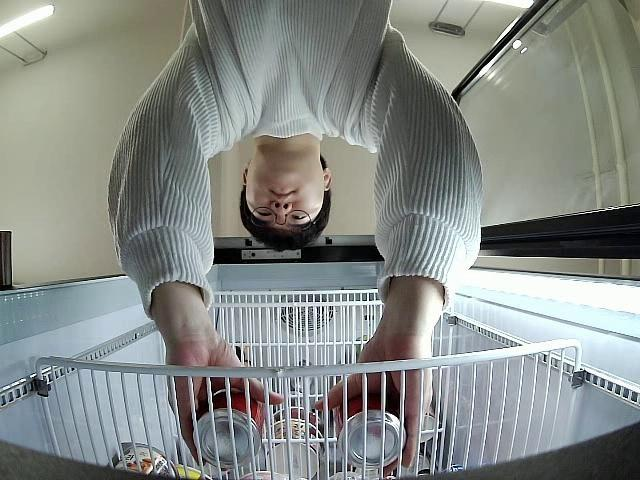11_cocaColaZero: (332, 386, 408, 470), (193, 390, 266, 470)
